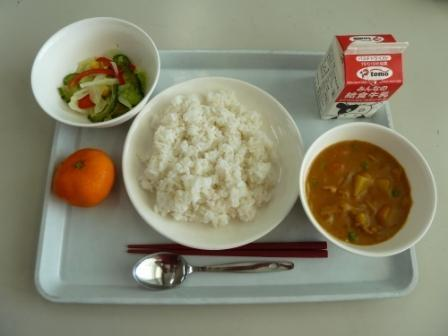Citrus: (50, 150, 120, 210)
Curry: (305, 121, 426, 245)
Milk: (313, 25, 411, 122)
Rice: (142, 88, 286, 223)
Salad: (49, 40, 146, 119)
